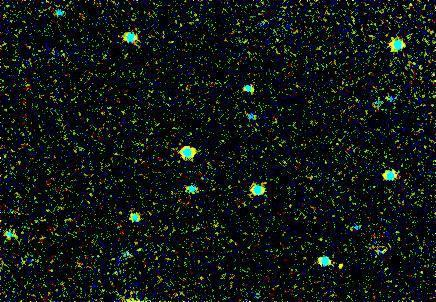star: (334, 251, 364, 281)
